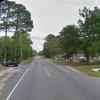Tree: (57, 20, 100, 66)
